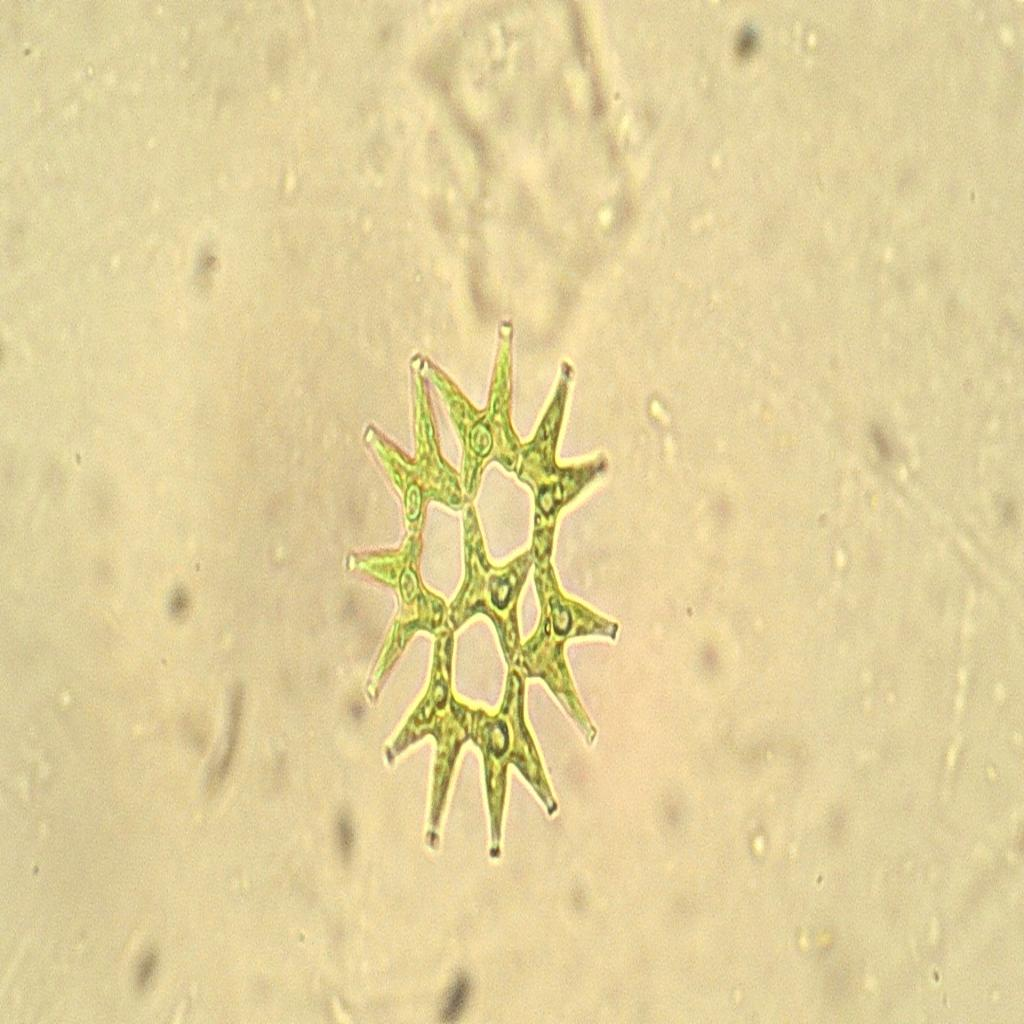Pediastrum_1T: (331, 309, 638, 876)
